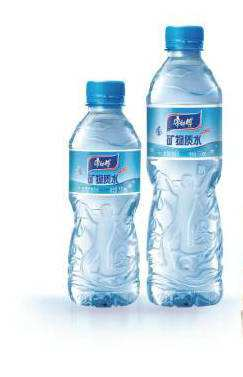amwater: (141, 20, 237, 316), (56, 66, 146, 309)
